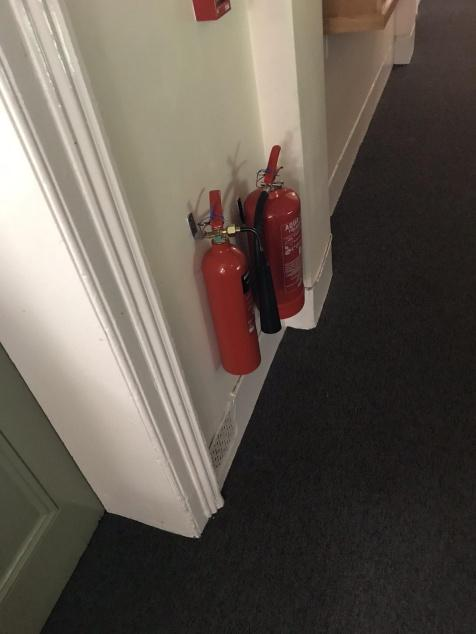APAR: (200, 191, 264, 376), (242, 145, 305, 322)
